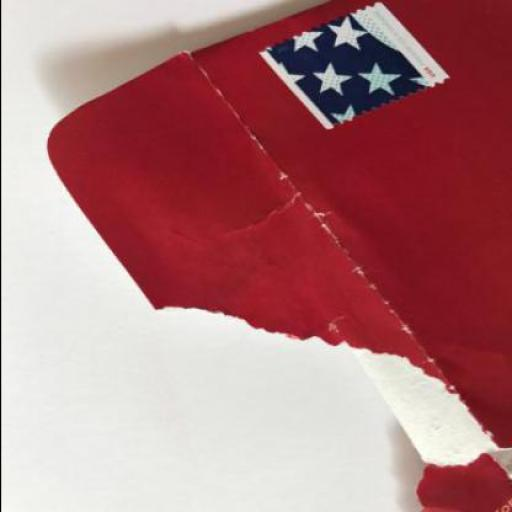paper: (42, 1, 511, 511)
